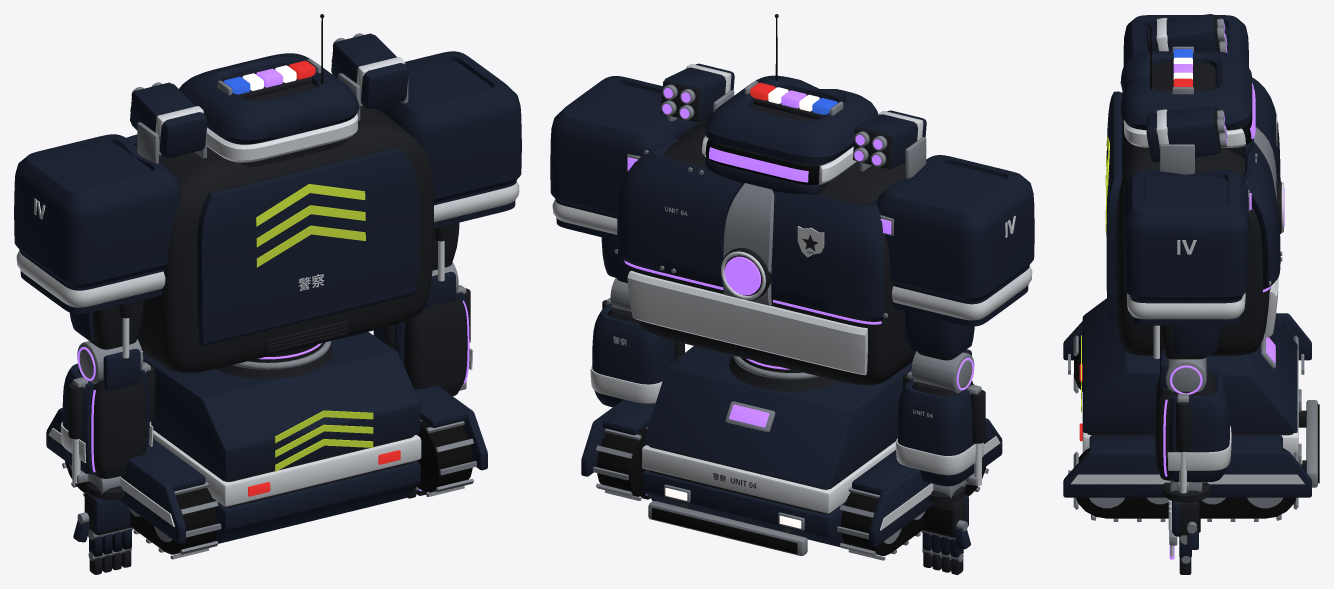
The model's file is fortress.glb.
3 renders of one model, left to right at view 1: azimuth 30°, elevation 25°; view 2: azimuth 150°, elevation 25°; view 3: azimuth 270°, elevation 25°, orthographic. The views are drawn at different scales.
Visible parts, largest first — view 1: CHEST_mesh, BODY_mesh, ARM_0_mesh, ARM_1_mesh, HEAD_mesh, ELBOW_0_mesh, ELBOW_1_mesh, HAND_0_mesh, WRIST_0_mesh; view 2: CHEST_mesh, BODY_mesh, ARM_0_mesh, ARM_1_mesh, HEAD_mesh, ELBOW_0_mesh, ELBOW_1_mesh, HAND_0_mesh, EYE_0, CORE, WRIST_0_mesh, LOW; view 3: BODY_mesh, CHEST_mesh, ARM_1_mesh, HEAD_mesh, ELBOW_1_mesh, ARM_0_mesh, HAND_1_mesh, WRIST_1_mesh.
Part boxes in pixels (x1,y1,x2,y2): CHEST_mesh: (126, 33, 433, 373); BODY_mesh: (46, 332, 487, 559); ARM_0_mesh: (14, 134, 180, 358); ARM_1_mesh: (376, 51, 521, 281); HEAD_mesh: (179, 14, 359, 166); ELBOW_0_mesh: (60, 339, 155, 483); ELBOW_1_mesh: (373, 262, 473, 395); HAND_0_mesh: (84, 491, 132, 540); WRIST_0_mesh: (86, 473, 124, 500); CHEST_mesh: (614, 63, 926, 385); BODY_mesh: (581, 154, 1002, 560); ARM_0_mesh: (876, 155, 1034, 360); ARM_1_mesh: (550, 76, 701, 282); HEAD_mesh: (702, 14, 878, 195); ELBOW_0_mesh: (895, 349, 985, 486); ELBOW_1_mesh: (590, 278, 684, 407); HAND_0_mesh: (921, 494, 968, 539); EYE_0: (709, 147, 808, 182); CORE: (724, 256, 761, 295); WRIST_0_mesh: (929, 479, 965, 504); LOW: (729, 404, 769, 427); BODY_mesh: (1063, 190, 1319, 521); CHEST_mesh: (1105, 14, 1283, 355); ARM_1_mesh: (1123, 169, 1248, 359); HEAD_mesh: (1120, 24, 1253, 158); ELBOW_1_mesh: (1155, 349, 1231, 493); ARM_0_mesh: (1123, 15, 1248, 67); HAND_1_mesh: (1168, 500, 1200, 559); WRIST_1_mesh: (1161, 480, 1210, 502).
Bounding box in the file's own units: 1.68 × 1.83 × 0.876.
